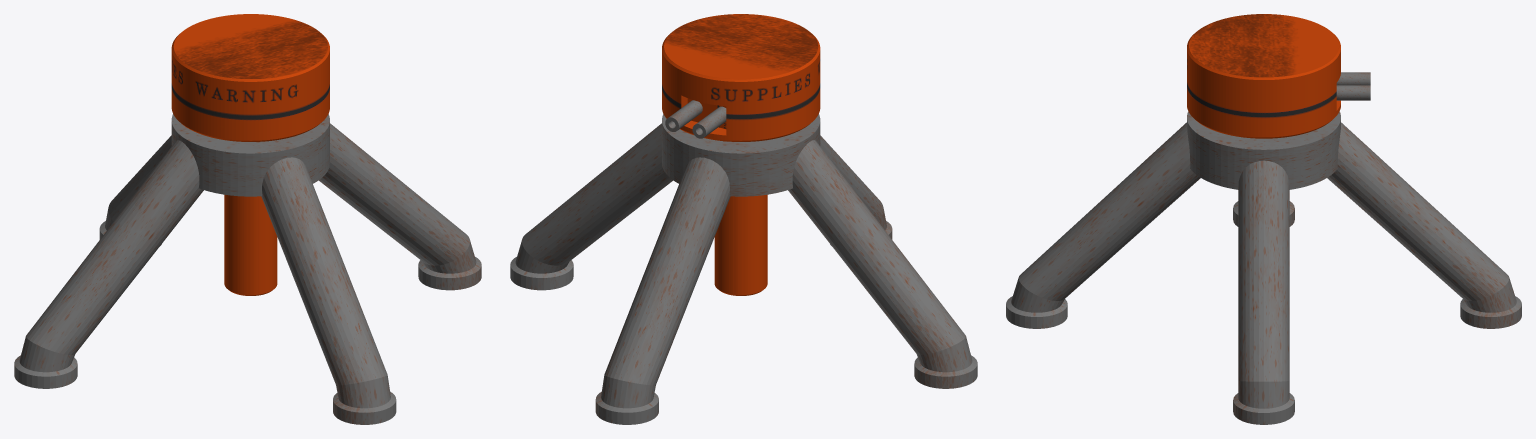
Rendered from turret-experiment.gltf.
3 views of the same model, side by side, from view 1: azimuth 30°, elevation 25°; view 2: azimuth 150°, elevation 25°; view 3: azimuth 270°, elevation 25° (orthographic). The views are drawn at different scales.
Visible parts, largest first — view 1: legB, barrel1; view 2: legB, barrel1; view 3: legB, barrel1.
Part boxes in pixels (left/top/right/bottom): legB: left=14, top=114, right=481, bottom=424; barrel1: left=171, top=14, right=329, bottom=295; legB: left=510, top=114, right=977, bottom=424; barrel1: left=662, top=14, right=820, bottom=295; legB: left=1006, top=111, right=1521, bottom=424; barrel1: left=1187, top=14, right=1370, bottom=138.
Size of the model in its own units: 4.01 by 2.33 by 4.01.
2 materials, 2 textured.
